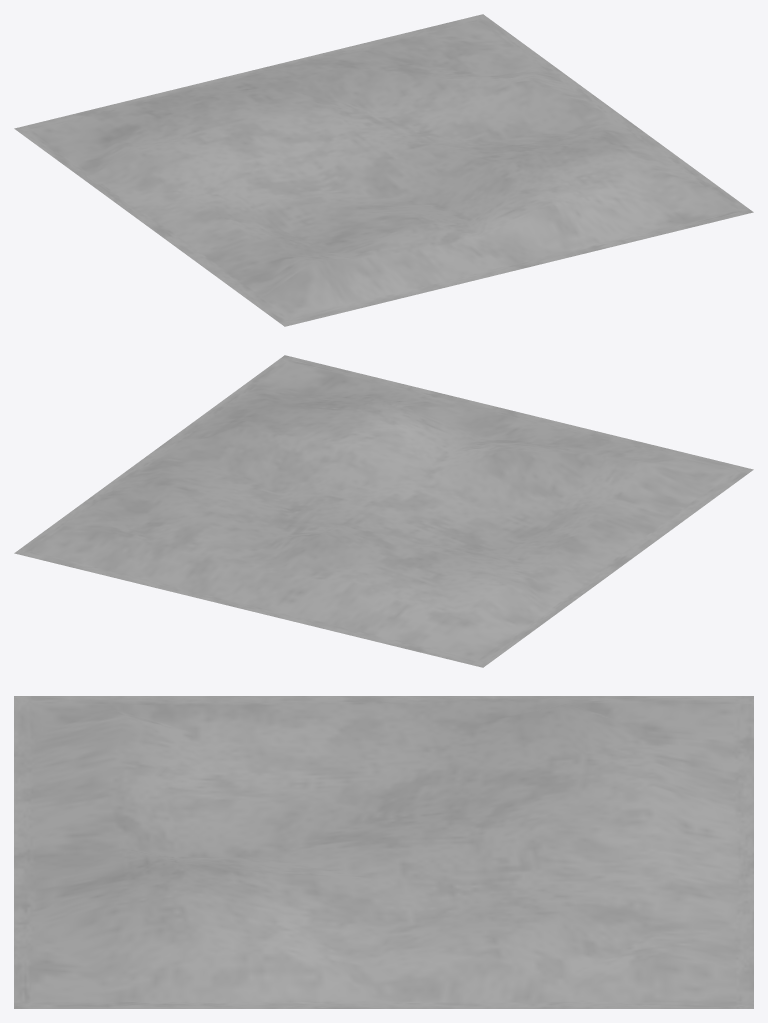
Rendered from LowLands2.fbx.
3 views of the same model, one above another, from view 1: azimuth 30°, elevation 25°; view 2: azimuth 150°, elevation 25°; view 3: azimuth 270°, elevation 25° (orthographic). The views are drawn at different scales.
Parts seen in each view (by area): view 1: LowLands2; view 2: LowLands2; view 3: LowLands2.
Boxes of the visible parts, x1,y1,x2,y2 form: LowLands2: [14, 14, 753, 326]; LowLands2: [14, 355, 753, 667]; LowLands2: [14, 696, 753, 1008].
Size of the model in its own units: 100 by 5.2 by 100.
